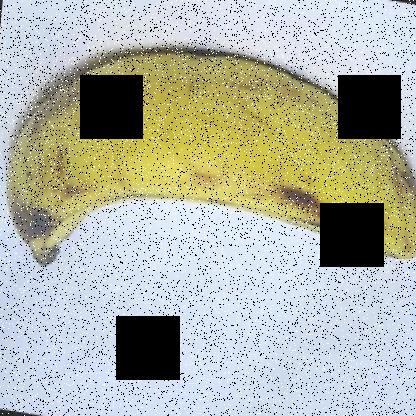ripe: (1, 9, 415, 318)
